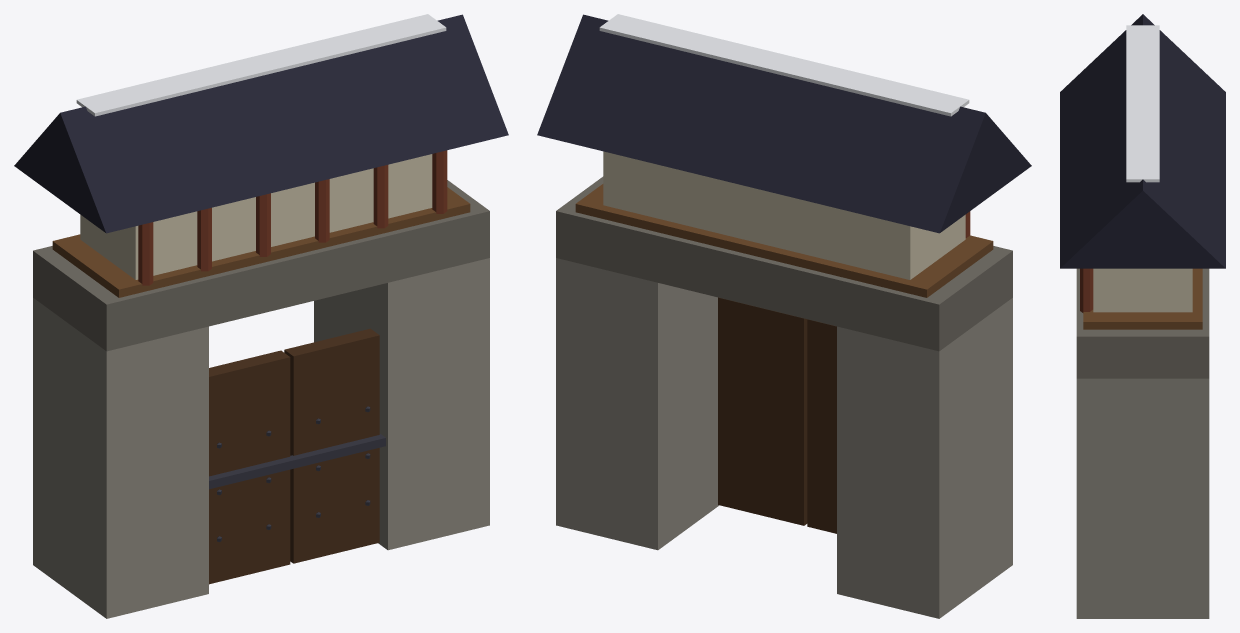
The model's file is city_gate.glb.
The picture shows the model from 3 angles, left to right: view 1: azimuth 30°, elevation 25°; view 2: azimuth 150°, elevation 25°; view 3: azimuth 270°, elevation 25°; orthographic projection. The views are drawn at different scales.
Parts seen in each view (by area): view 1: city_gate; view 2: city_gate; view 3: city_gate.
Boxes of the visible parts, box(x1,y1,x2,y2) form: city_gate: box(14, 14, 508, 618); city_gate: box(537, 14, 1031, 618); city_gate: box(1060, 14, 1225, 618).
Bounding box in the file's own units: 12.6 × 14.4 × 5.
